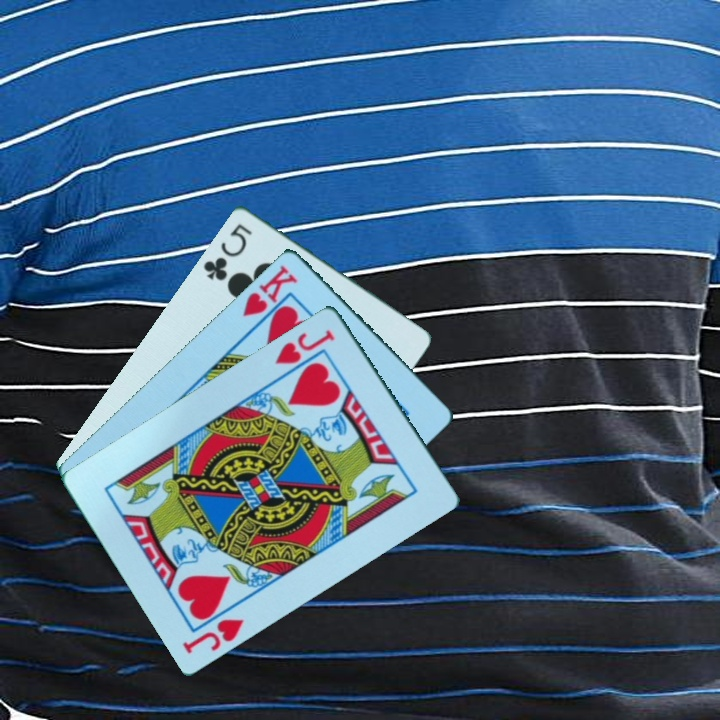5c: (199, 219, 255, 284)
Jh: (179, 614, 247, 656), (271, 325, 338, 367)
Kh: (239, 260, 301, 319)
